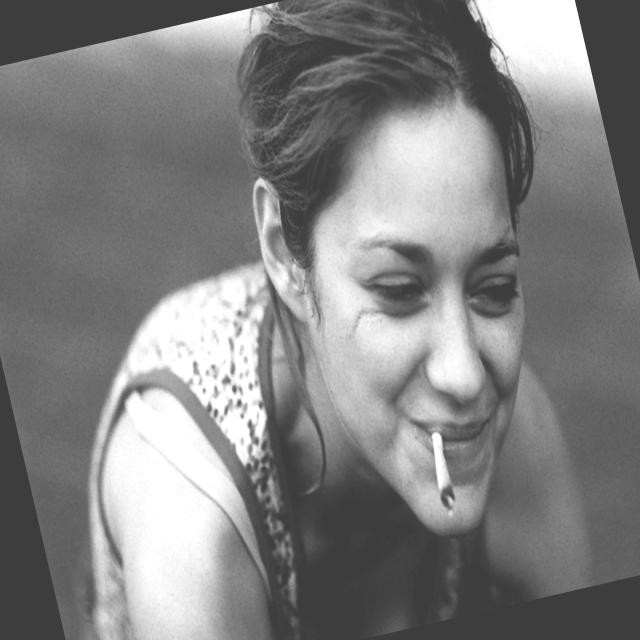smoke: (423, 426, 466, 513)
